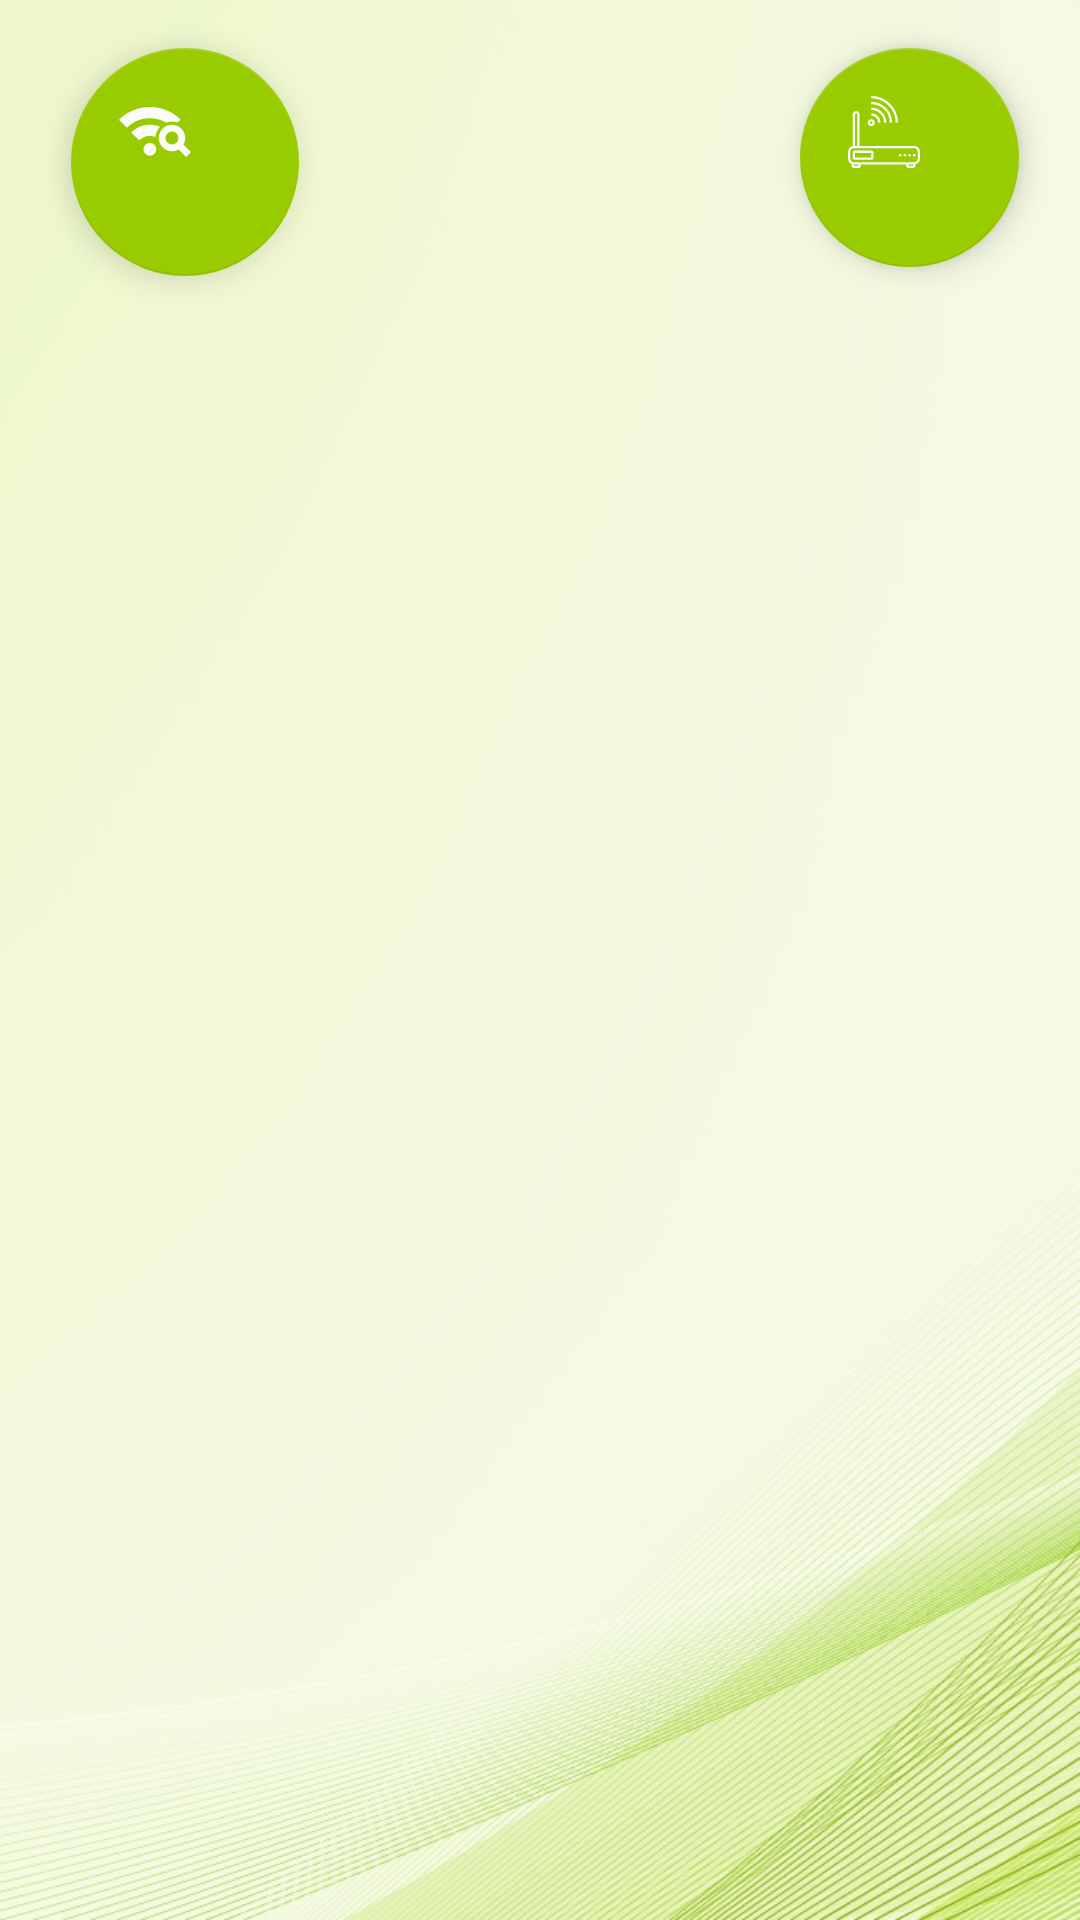

Where icons sit on this 1080*1920 app screen, as [left=x1, top=y1, right=x2, bottom=y2]:
router: [left=800, top=48, right=1019, bottom=267]
search wireless net: [left=71, top=48, right=299, bottom=276]
